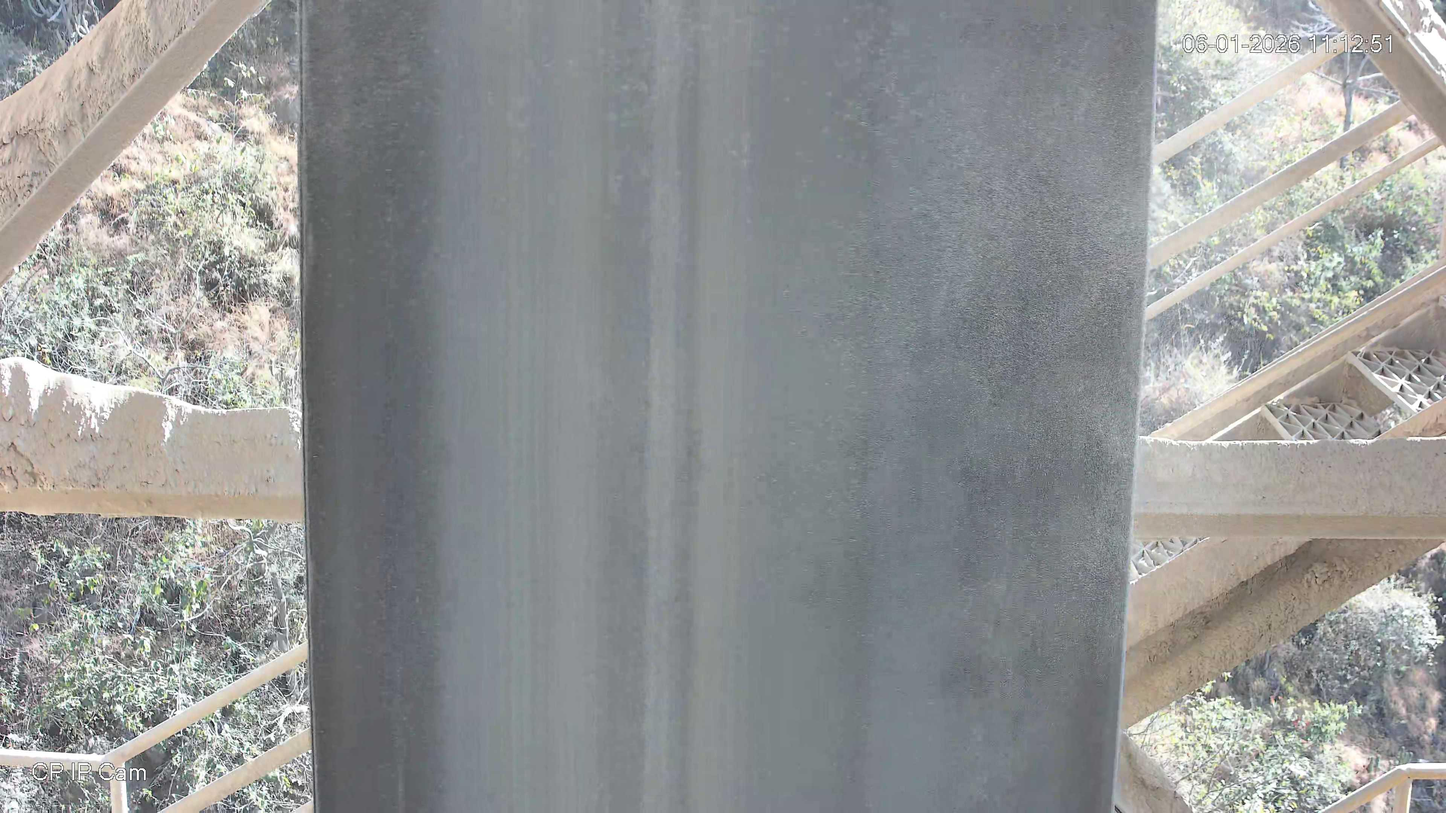belt_roi: (299, 0, 1157, 813)
